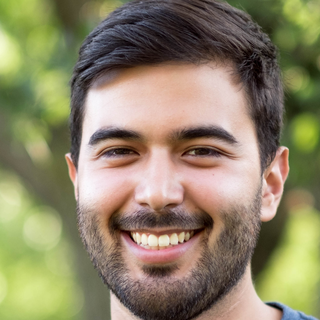eye: (178, 141, 231, 165), (94, 142, 143, 166)
